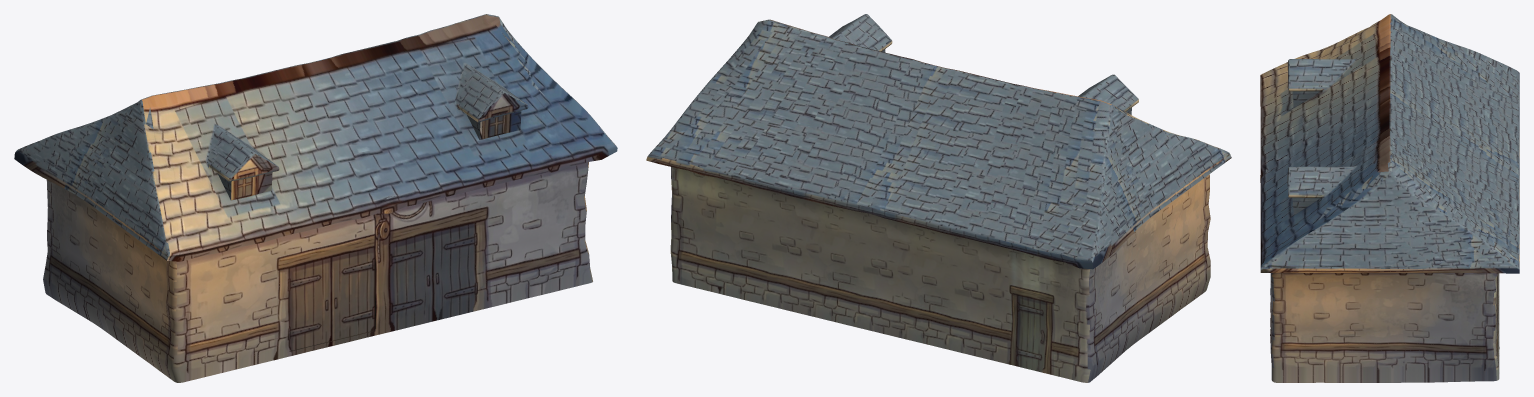
Rendered from havre_entrepot.glb.
3 renders of one model, left to right at view 1: azimuth 30°, elevation 25°; view 2: azimuth 150°, elevation 25°; view 3: azimuth 270°, elevation 25°, orthographic. The views are drawn at different scales.
Visible parts, largest first — view 1: maison; view 2: maison; view 3: maison.
Part boxes in pixels (x1,y1,x2,y2): maison: [14, 14, 617, 382]; maison: [646, 14, 1231, 382]; maison: [1260, 14, 1519, 382].
Size of the model in its own units: 8.91 by 4.28 by 4.95.
1 material, 1 textured.
